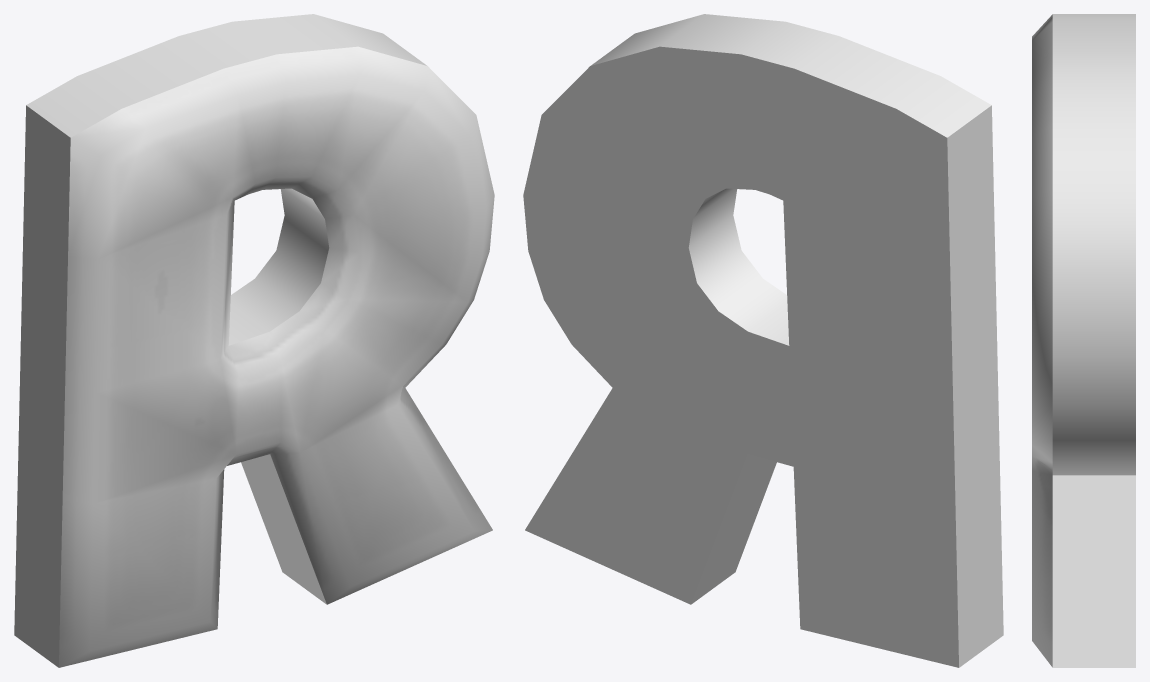
Rendered from LettersStylized01_R.FBX.
The picture shows the model from 3 angles, left to right: view 1: azimuth 30°, elevation 25°; view 2: azimuth 150°, elevation 25°; view 3: azimuth 270°, elevation 25°; orthographic projection. The views are drawn at different scales.
Visible parts, largest first — view 1: LettersStylized01_R; view 2: LettersStylized01_R; view 3: LettersStylized01_R.
Boxes of the visible parts, bbox=[...] form: LettersStylized01_R: bbox=[14, 14, 494, 667]; LettersStylized01_R: bbox=[523, 14, 1003, 667]; LettersStylized01_R: bbox=[1032, 14, 1135, 667].
Size of what is drawn, in the model's own units: 0.3836 by 0.4734 by 0.085.
